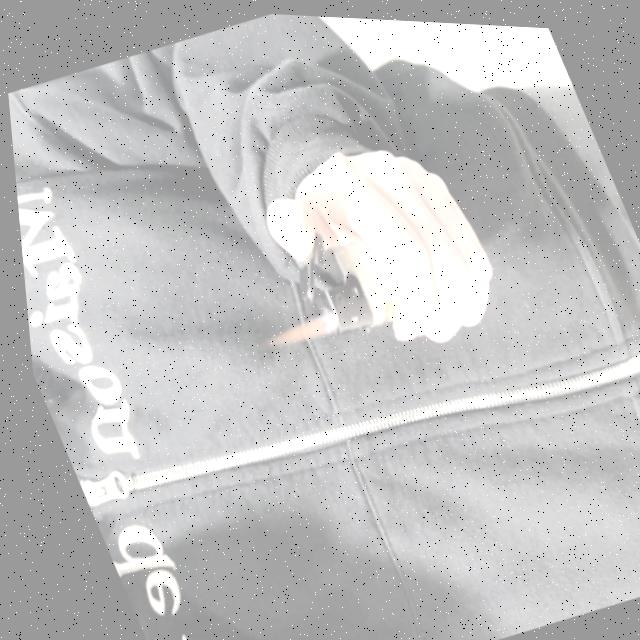Fire: (250, 299, 338, 353)
